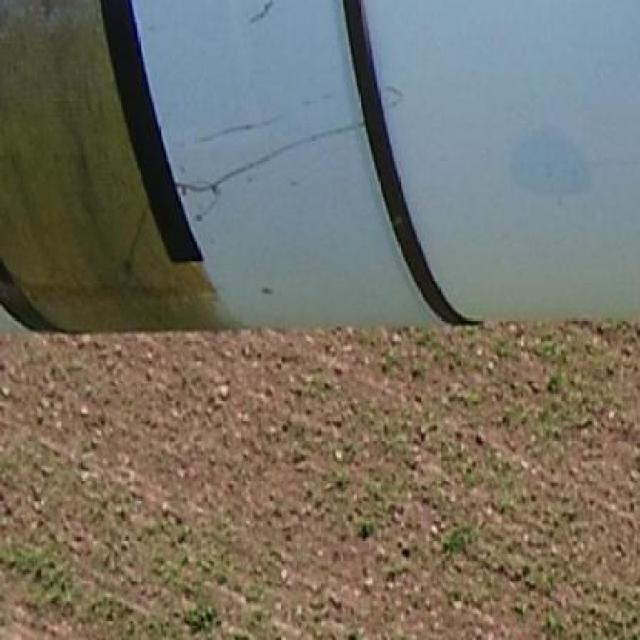Coating_defects: (508, 118, 610, 205)
Crack: (175, 84, 403, 224), (250, 0, 273, 28)
